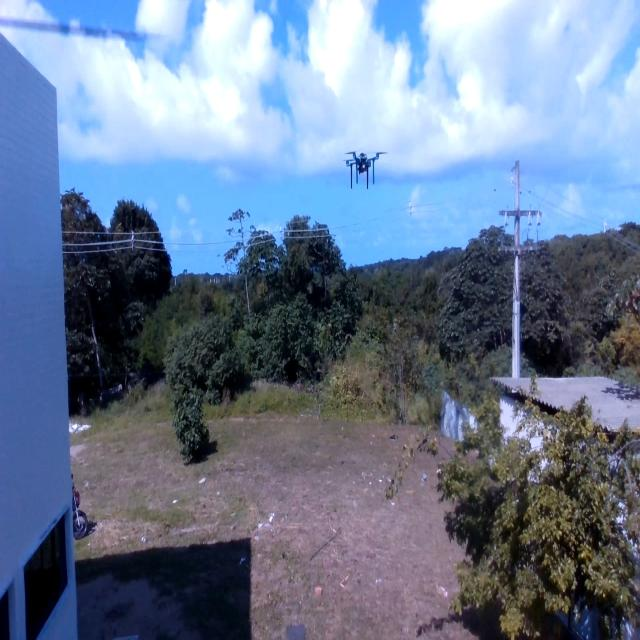-uav-: (337, 141, 391, 192)
